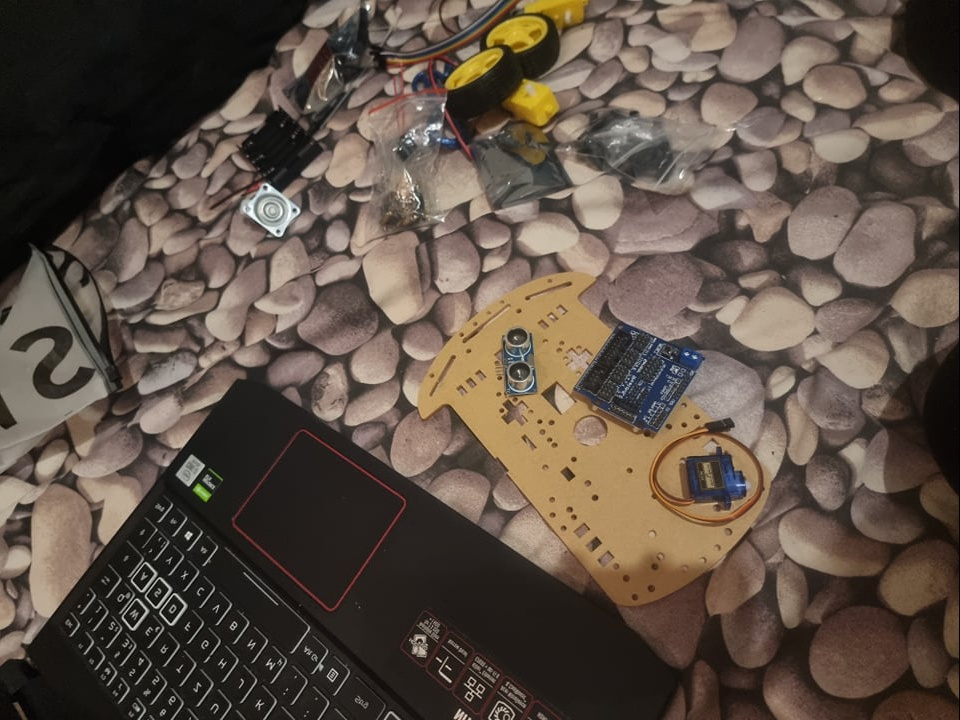5V EXPANSION: (576, 318, 703, 436)
BATTERY BOX: (239, 103, 320, 189)
SENSOR: (499, 322, 538, 401)
